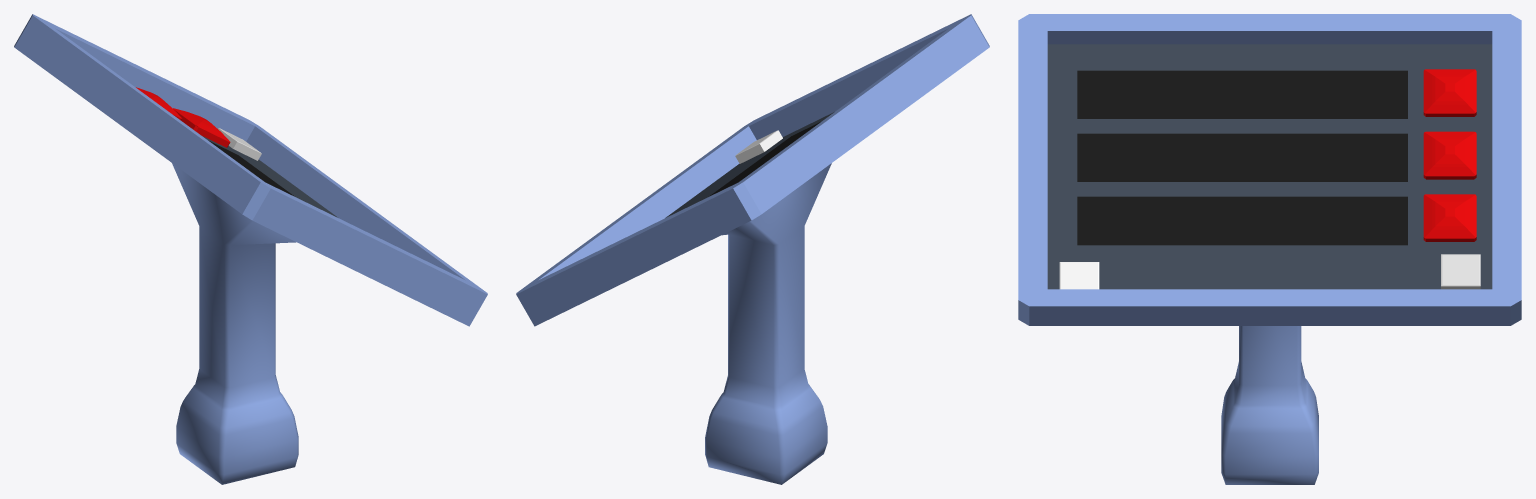
Rendered from Meep gamemodes selector stand model.fbx.
3 views of the same model, side by side, from view 1: azimuth 30°, elevation 25°; view 2: azimuth 150°, elevation 25°; view 3: azimuth 270°, elevation 25° (orthographic). The views are drawn at different scales.
Visible parts, largest first — view 1: Cube.001, Cube, Cube.006; view 2: Cube.001, Cube, Plane, Cube.002; view 3: Cube.001, Plane, Cube, Cube.006, Cube.003, Cube.002.
Boxes of the visible parts, x1,y1,x2,y2 form: Cube.001: (14, 14, 487, 326); Cube: (172, 163, 298, 484); Cube.006: (136, 87, 230, 147); Cube.001: (516, 14, 989, 326); Cube: (705, 163, 831, 484); Plane: (709, 122, 820, 196); Cube.002: (735, 130, 782, 163); Cube.001: (1018, 14, 1521, 325); Plane: (1077, 70, 1407, 245); Cube: (1221, 326, 1318, 484); Cube.006: (1423, 69, 1476, 241); Cube.003: (1441, 254, 1480, 289); Cube.002: (1059, 262, 1099, 289).
Size of the model in its own units: 169 by 253 by 285.
